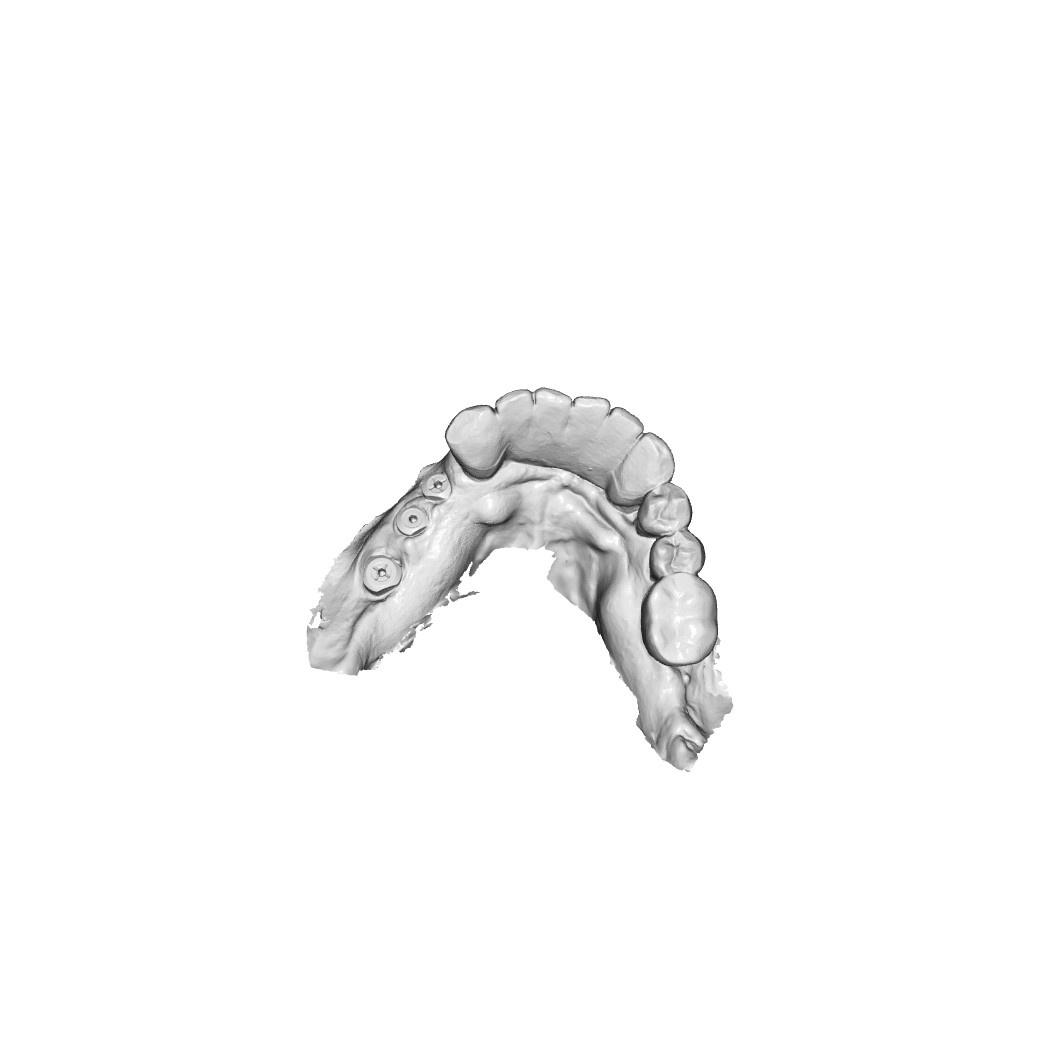canine: (442, 403, 503, 480)
implant: (397, 506, 430, 538)
implant_plus: (362, 555, 401, 595), (422, 469, 457, 502)
incisor: (614, 430, 678, 499), (491, 386, 536, 453), (594, 405, 647, 456), (531, 383, 576, 441), (571, 391, 612, 447)
molar: (640, 573, 719, 668)
premolar: (634, 481, 696, 540), (645, 527, 707, 578)
